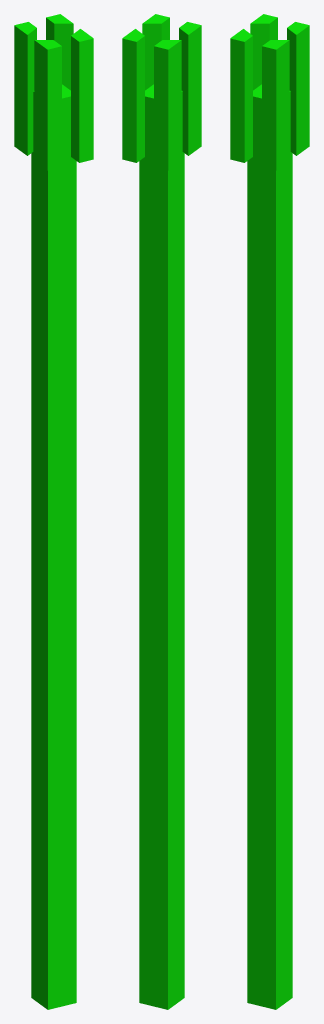
Rendered from staff_weapon.obj.
3 renders of one model, left to right at view 1: azimuth 30°, elevation 25°; view 2: azimuth 150°, elevation 25°; view 3: azimuth 330°, elevation 25°, orthographic.
Visible parts, largest first — view 1: Cube.004_Cube.007; view 2: Cube.004_Cube.007; view 3: Cube.004_Cube.007.
Boxes of the visible parts, x1,y1,x2,y2 form: Cube.004_Cube.007: [14, 14, 93, 1009]; Cube.004_Cube.007: [122, 14, 201, 1009]; Cube.004_Cube.007: [230, 14, 309, 1009].
Bounding box in the file's own units: 0.08 × 1.6 × 0.1.
